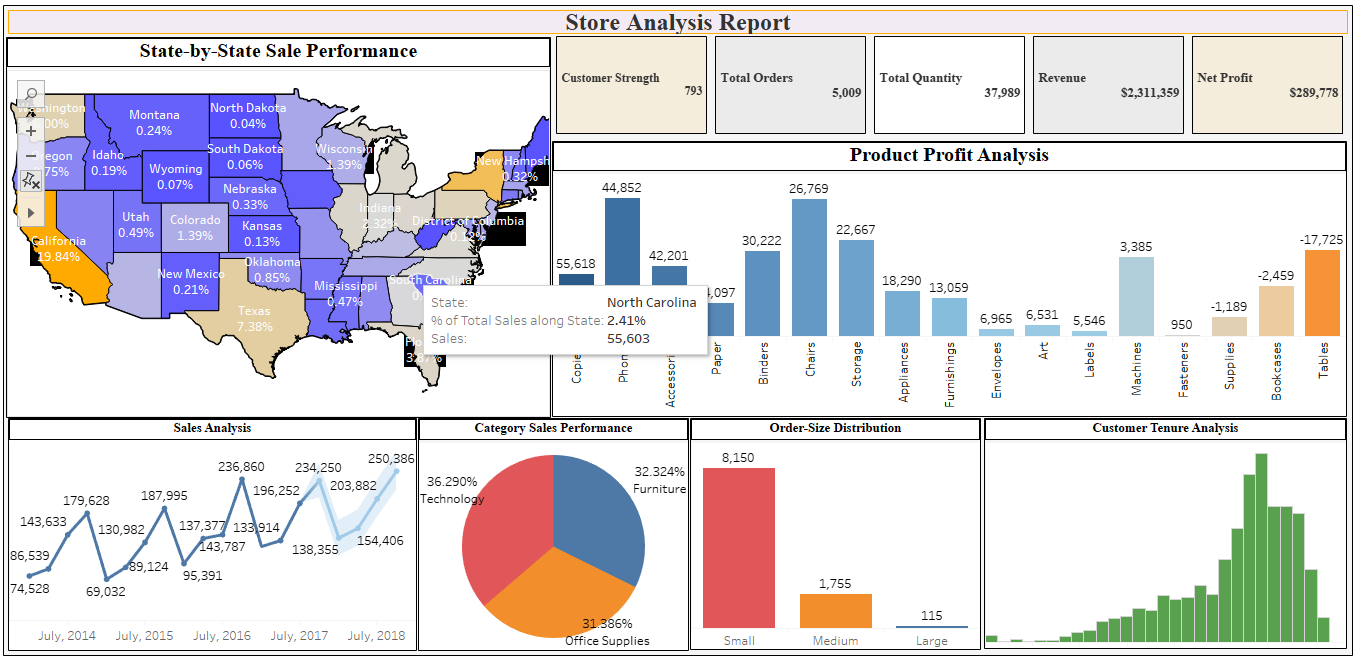

This screenshot's page, from the dashboard's own definition file:
{"tool":"tableau","page":{"name":"Dashboard 1","canvas":[1000,1000],"units":"permille","ordinal":0},"visuals":[{"type":"title","box":[7.8,15.4,984.4,54.8]},{"type":"worksheet","title":"No of Customer","mark":"Automatic","box":[407.8,53.1,116.4,159.2]},{"type":"worksheet","title":"No of orders","mark":"Automatic","box":[524.1,53.1,116.4,159.2]},{"type":"worksheet","title":"Quantity","mark":"Automatic","box":[640.5,53.1,116.4,159.2]},{"type":"worksheet","title":"Sales","mark":"Automatic","box":[756.9,53.1,116.4,159.2]},{"type":"worksheet","title":"Profit","mark":"Automatic","box":[873.2,53.1,116.4,159.2]},{"type":"worksheet","title":"Sheet 1","mark":"Multipolygon","box":[7.8,59.9,399.1,571.9]},{"type":"worksheet","title":"sub_category","mark":"Automatic","rows":["Sales"],"cols":["Sub-Category"],"box":[407.8,215.8,581.8,414.4]},{"type":"worksheet","title":"Sheet 5","mark":"Automatic","rows":["Sales"],"cols":["Order Date"],"box":[9.5,631.9,299.6,349.3]},{"type":"worksheet","title":"Category_Pie","mark":"Pie","box":[310,631.9,198.3,349.3]},{"type":"worksheet","title":"order_size","mark":"Automatic","rows":["Order ID"],"cols":["Order Size Category"],"box":[509.1,631.9,213,347.6]},{"type":"worksheet","title":"Sheet 12","mark":"Automatic","rows":["Customer Tenure"],"cols":["Customer Tenure (bin)"],"box":[723.8,631.9,265.8,345.9]}]}

Visuals, with their boxes on the dashboard's canvas, which has no fixed pixel size, in thousandths of its width and height (x1, y1, x2, y2). These are canvas units, not pixel positions in the 1357x659 screenshot, which may show the page scaled, cropped or inside an application window:
title: [8, 15, 992, 70]
"No of Customer" worksheet: [408, 53, 524, 212]
"No of orders" worksheet: [524, 53, 640, 212]
"Quantity" worksheet: [640, 53, 757, 212]
"Sales" worksheet: [757, 53, 873, 212]
"Profit" worksheet: [873, 53, 990, 212]
"Sheet 1" worksheet (Multipolygon marks): [8, 60, 407, 632]
"sub_category" worksheet: [408, 216, 990, 630]
"Sheet 5" worksheet: [10, 632, 309, 981]
"Category_Pie" worksheet (Pie marks): [310, 632, 508, 981]
"order_size" worksheet: [509, 632, 722, 980]
"Sheet 12" worksheet: [724, 632, 990, 978]
